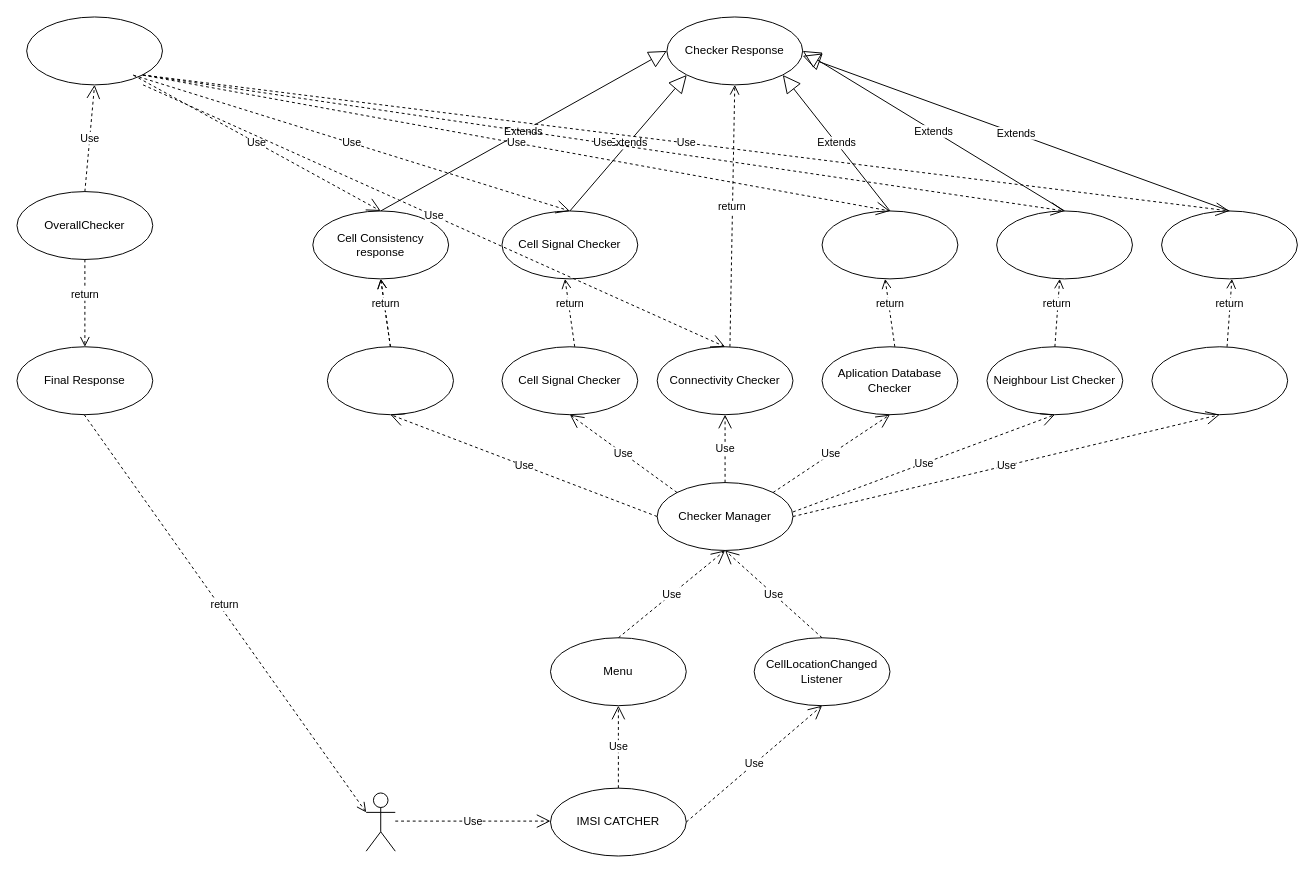
Some shapes in this 1314 by 889 pixel diagram are drawn without their labels. The shapes that lost their labels are listed below. From the top down, each one's box as (x1, y1, x2, y2) in pixels, then its label:
(26, 16, 162, 85): Checker Response Manager
(821, 210, 958, 279): Internal Db Checker Response
(996, 210, 1132, 279): NeighbourList Checker Response
(1161, 210, 1297, 279): Public Database Checker Response
(326, 346, 453, 415): Cell Consistency Checker
(1151, 346, 1288, 415): Public Database Checker
(365, 792, 395, 851): Actor
